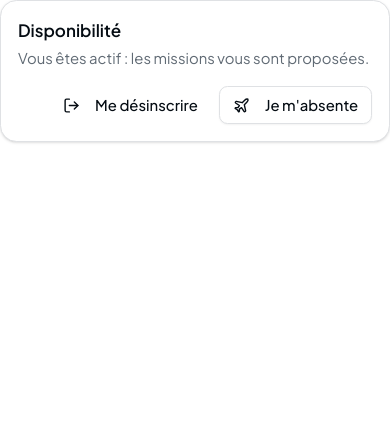
Test case: AvailabilitySection › goes away with no end date when none is picked
Later steps or results of the test are not shown.
Expected: the text "Vous êtes actif : les missions vous sont proposées." is shown, [18,48,372,69]
Click the button "Je m'absente": {"x": 296, "y": 105} [219,86,372,124]
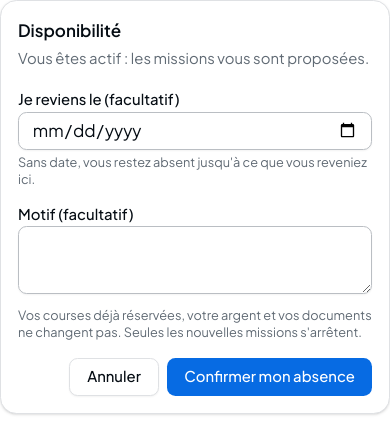
Result: the text "Vos courses déjà réservées, votre argent et vos documents ne changent pas. Seules les nouvelles missions s'arrêtent." is shown at [18,307,372,340]
